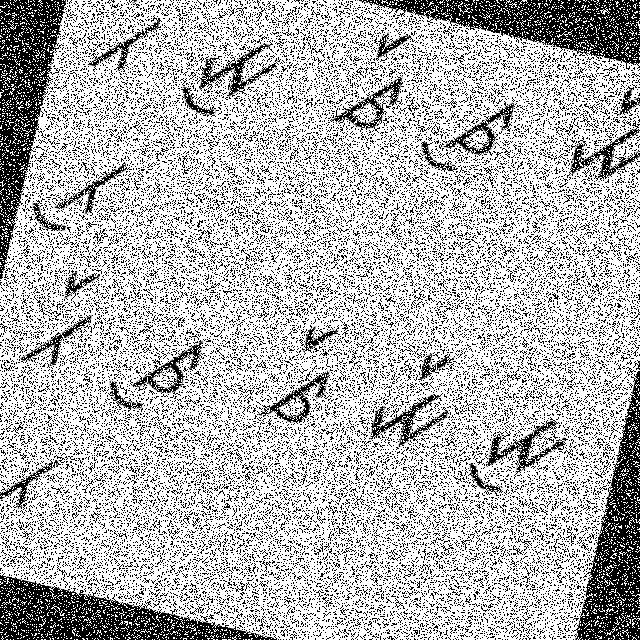bar: (10, 256, 111, 378)
baw: (20, 118, 138, 246), (0, 431, 66, 541)
car: (322, 14, 427, 141), (247, 310, 350, 434)
caw: (93, 318, 210, 432), (414, 72, 524, 186)
mar: (354, 324, 473, 460), (555, 69, 639, 196), (73, 0, 178, 86)
maw: (461, 388, 582, 514), (171, 9, 290, 137)
